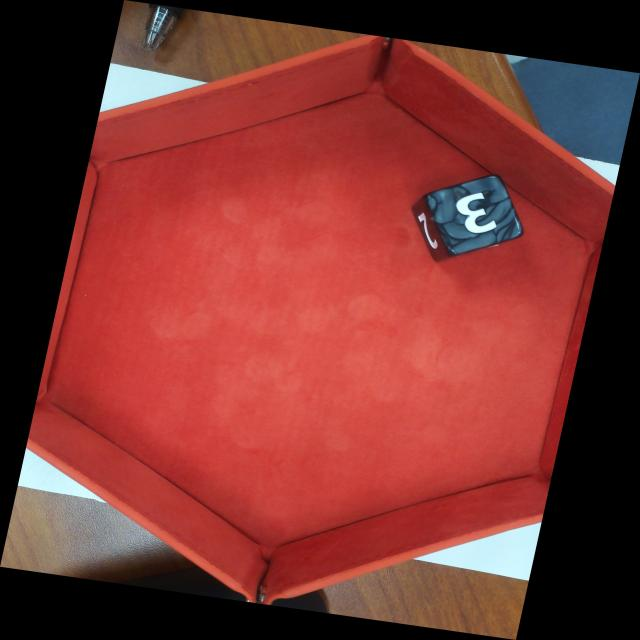dice: (434, 172, 528, 254)
